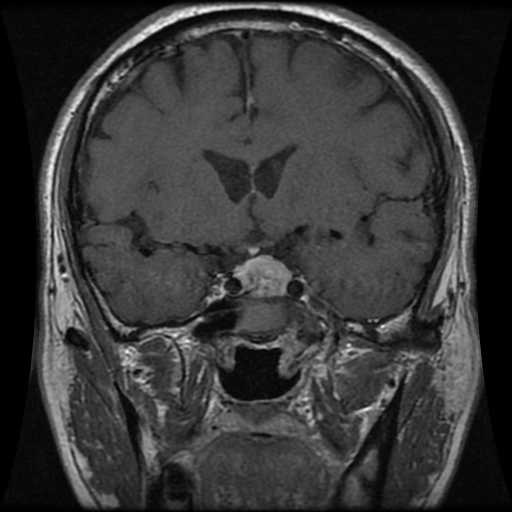pituitary: (238, 258, 292, 295)
